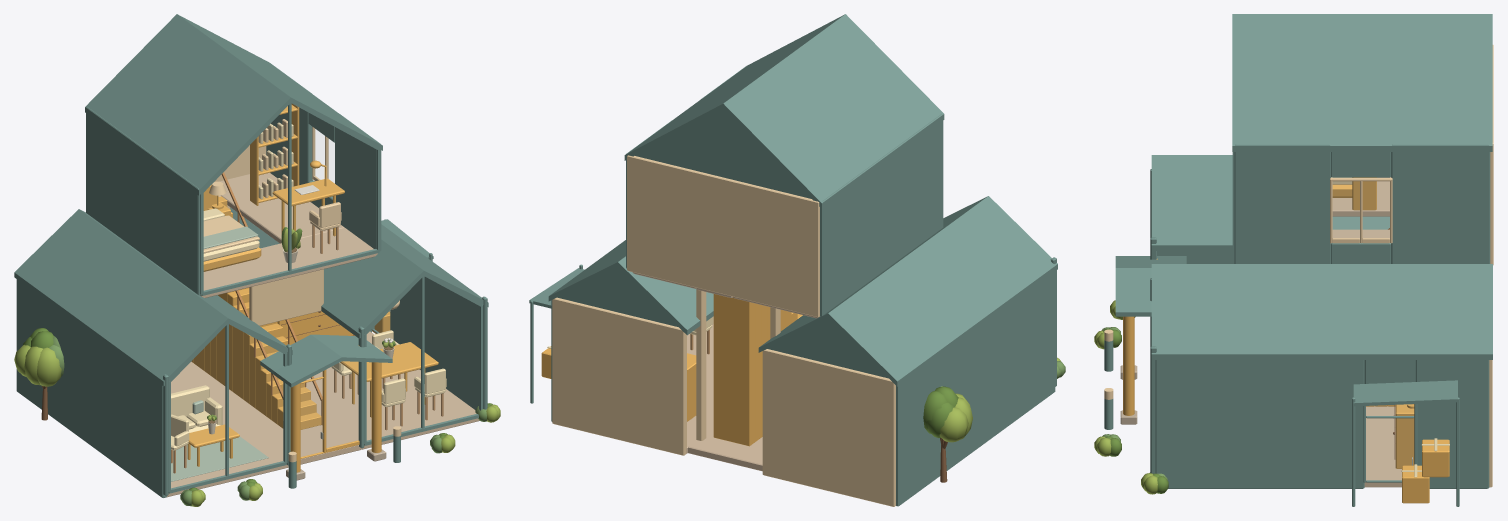
File: 16-B-af6caa60dfea.glb
3 views of the same model, side by side, from view 1: azimuth 30°, elevation 25°; view 2: azimuth 150°, elevation 25°; view 3: azimuth 270°, elevation 25° (orthographic). The views are drawn at different scales.
Visible parts, largest first — view 1: R 下部房形屋盖, R 上层房形屋盖, A 左展厅外墙, A 上层左墙, A 山墙框, S 地面展厅楼面, A 右展厅外墙, S 梯级, A 上层右墙段, S 中核地面, S 上层前楼板, R 入口小山墙雨棚 (+22 smaller); view 2: A 下部后墙, R 下部房形屋盖, R 上层房形屋盖, A 上层后墙, A 左展厅外墙, A 上层左墙, S 梯级, A 上层后山墙, A 下部后山墙, L 乔木 · 枝干与树冠, A 中核承托柱, S 中核地面 (+2 smaller); view 3: R 下部房形屋盖, R 上层房形屋盖, A 右展厅外墙, A 上层右墙段, R 入口小山墙雨棚, R 配送口小雨棚, S 地面展厅楼面, I 礼盒, A 上层右窗上, L 地被与灌丛, A 上层右窗下, A 配送门过梁 (+13 smaller).
Boxes of the visible parts, left/top/right/bottom form: R 下部房形屋盖: left=14, top=180, right=488, bottom=386; R 上层房形屋盖: left=85, top=14, right=382, bottom=195; A 左展厅外墙: left=16, top=279, right=166, bottom=497; A 上层左墙: left=86, top=107, right=201, bottom=295; A 山墙框: left=168, top=103, right=483, bottom=493; S 地面展厅楼面: left=166, top=331, right=479, bottom=497; A 右展厅外墙: left=370, top=277, right=478, bottom=409; S 梯级: left=191, top=196, right=321, bottom=429; A 上层右墙段: left=266, top=62, right=381, bottom=251; S 中核地面: left=174, top=361, right=361, bottom=467; S 上层前楼板: left=201, top=228, right=377, bottom=297; R 入口小山墙雨棚: left=260, top=334, right=392, bottom=387; A 下部后墙: left=552, top=297, right=895, bottom=506; R 下部房形屋盖: left=548, top=196, right=1057, bottom=386; R 上层房形屋盖: left=624, top=14, right=944, bottom=208; A 上层后墙: left=627, top=155, right=819, bottom=317; A 左展厅外墙: left=896, top=271, right=1055, bottom=506; A 上层左墙: left=820, top=114, right=943, bottom=316; S 梯级: left=713, top=294, right=802, bottom=446; A 上层后山墙: left=635, top=109, right=811, bottom=198; A 下部后山墙: left=557, top=267, right=888, bottom=378; L 乔木 · 枝干与树冠: left=923, top=386, right=972, bottom=482; A 中核承托柱: left=696, top=289, right=780, bottom=440; S 中核地面: left=687, top=427, right=762, bottom=471; R 下部房形屋盖: left=1151, top=155, right=1492, bottom=359; R 上层房形屋盖: left=1232, top=14, right=1492, bottom=151; A 右展厅外墙: left=1155, top=360, right=1489, bottom=488; A 上层右墙段: left=1234, top=144, right=1490, bottom=263; R 入口小山墙雨棚: left=1115, top=256, right=1186, bottom=316; R 配送口小雨棚: left=1353, top=380, right=1457, bottom=406; S 地面展厅楼面: left=1364, top=412, right=1401, bottom=487; I 礼盒: left=1402, top=439, right=1449, bottom=503; A 上层右窗上: left=1331, top=146, right=1391, bottom=177; L 地被与灌丛: left=1094, top=300, right=1168, bottom=494; A 上层右窗下: left=1331, top=243, right=1391, bottom=263; A 配送门过梁: left=1364, top=360, right=1415, bottom=383.
Bounding box in the file's own units: 23.07 × 19.1 × 17.95.
